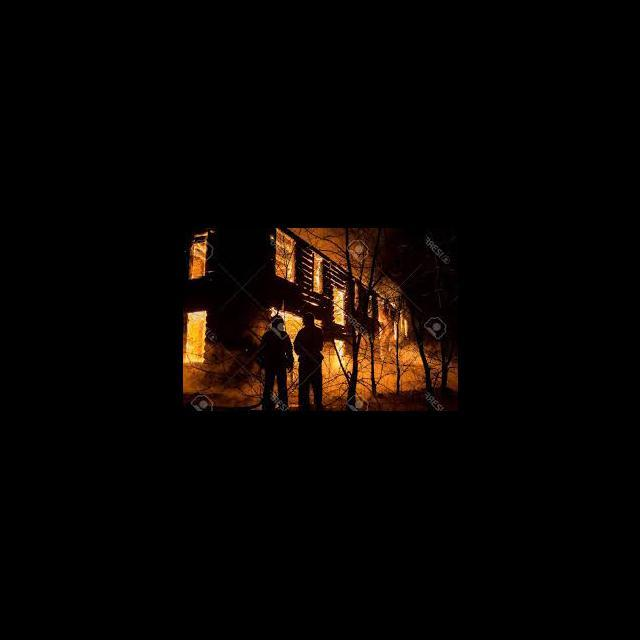Fire: (324, 343, 352, 399), (183, 308, 210, 366), (271, 235, 300, 282), (188, 233, 212, 281), (306, 256, 326, 294), (330, 284, 348, 324), (404, 320, 410, 338), (399, 312, 404, 329)
